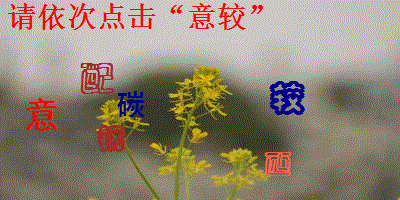result: (187, 2, 249, 32)
text: (268, 79, 307, 117), (77, 61, 116, 96), (26, 96, 60, 134), (95, 123, 127, 155), (114, 91, 147, 119), (263, 150, 294, 179)
